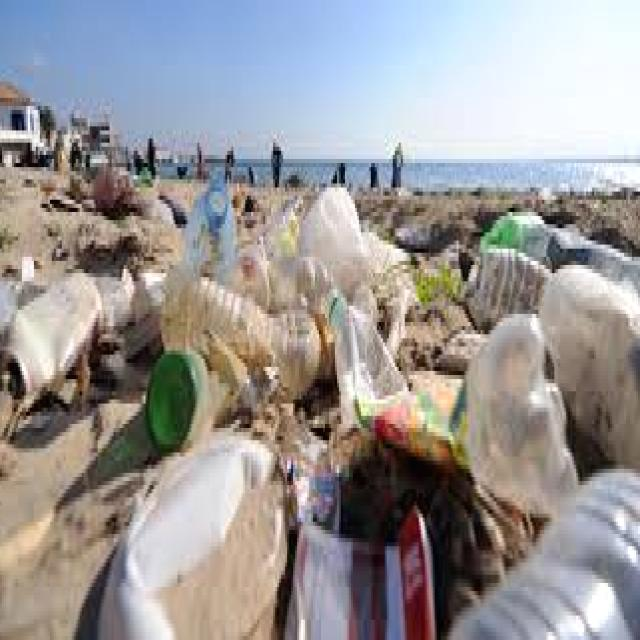garbage: (0, 182, 630, 640)
